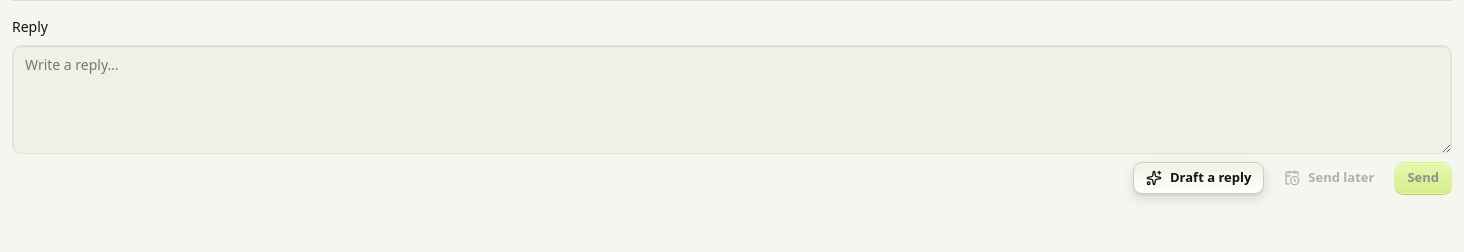
Test: drafting into an empty textarea fills it without a confirmation prompt, and never sends
Click the button "Draft a reply".
click(1199, 178)  # box left=1133, top=162, right=1264, bottom=194
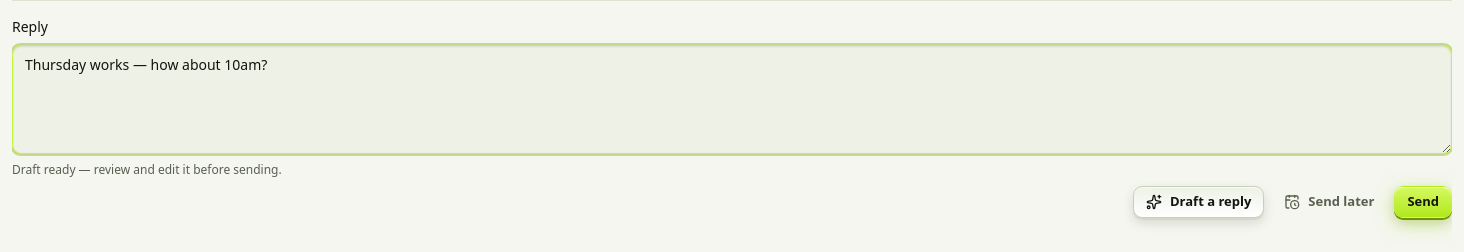
expect the text box labelled "Reply" holds "Thursday works — how about 10am?": met, box left=12, top=45, right=1452, bottom=154
expect the message shows "Draft ready — review and edit it before sending": met, box left=12, top=161, right=282, bottom=178
